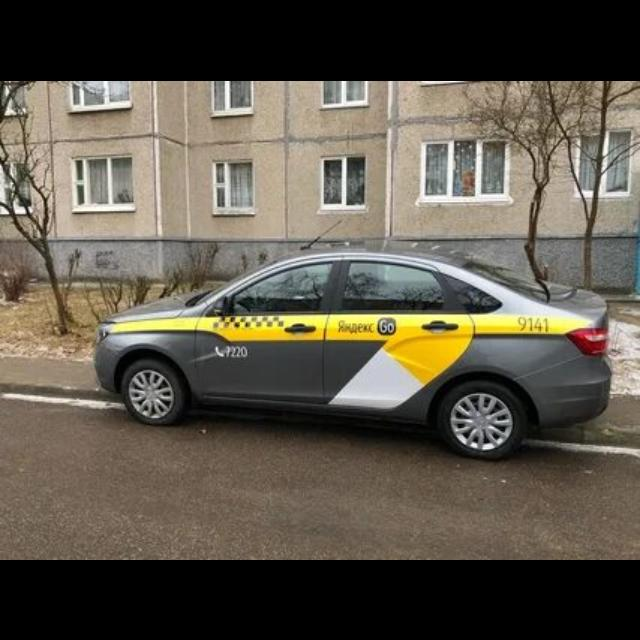taxi: (92, 246, 612, 460)
